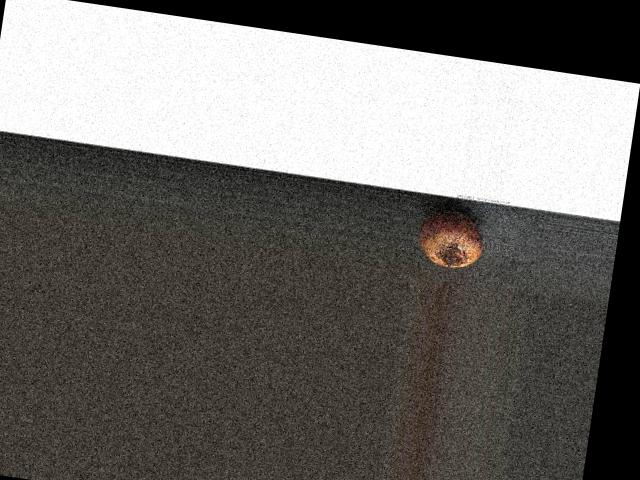beet: (413, 206, 486, 270)
